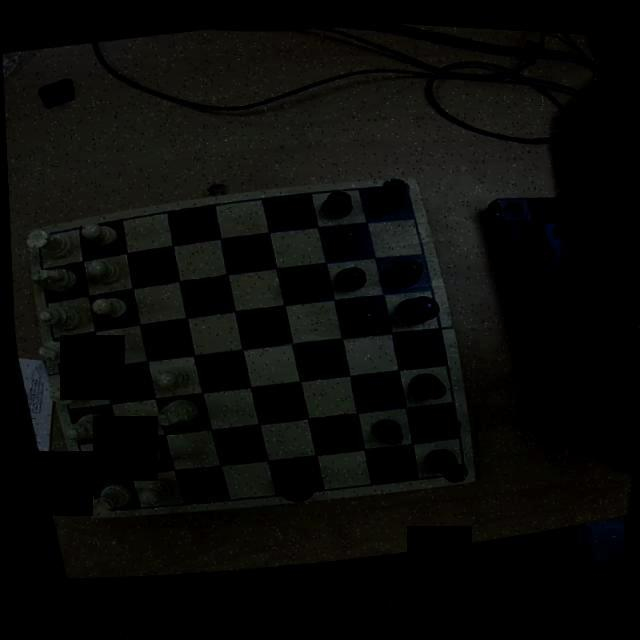chess-table-corners: (388, 170, 416, 197), (446, 450, 473, 476), (82, 498, 113, 518), (24, 228, 50, 251)
